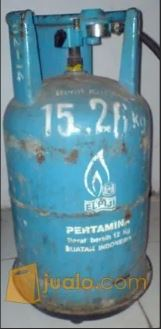blue_gas: (3, 8, 153, 319)
